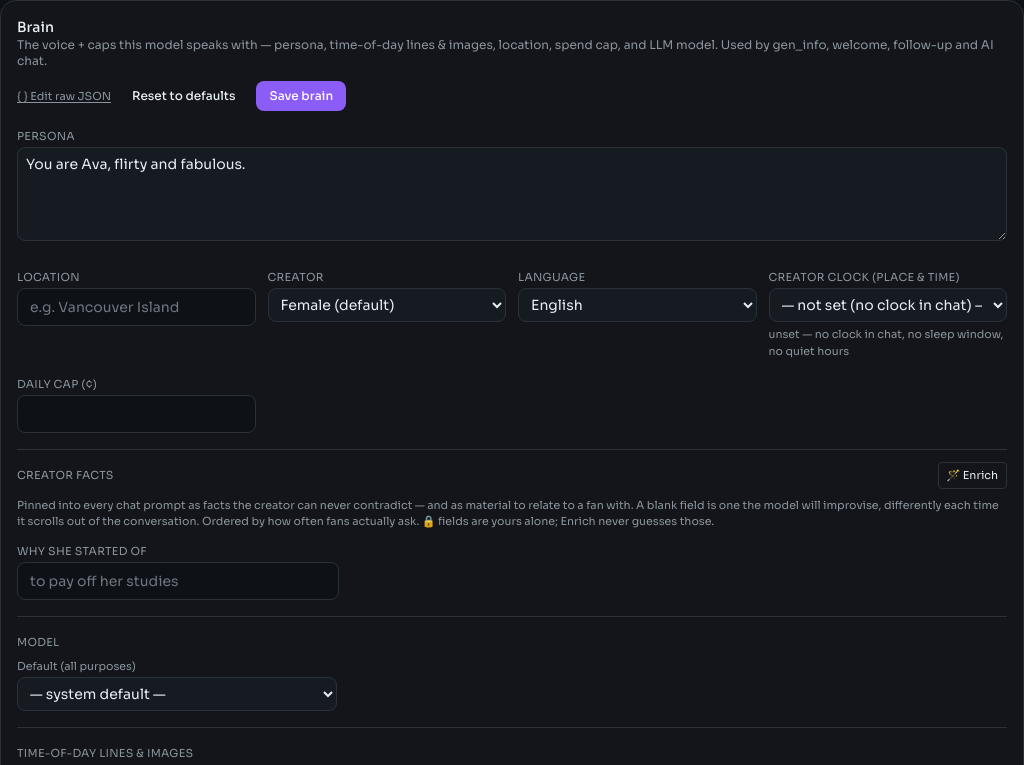
Test: the starter brain follows the SELECTED lane › Reset fills the SELECTED lane's brain, not the stored column's
Select "Male" in the dropdown titled "Whose voice this account writes in": coordinates (387, 305) [268, 288, 506, 322]
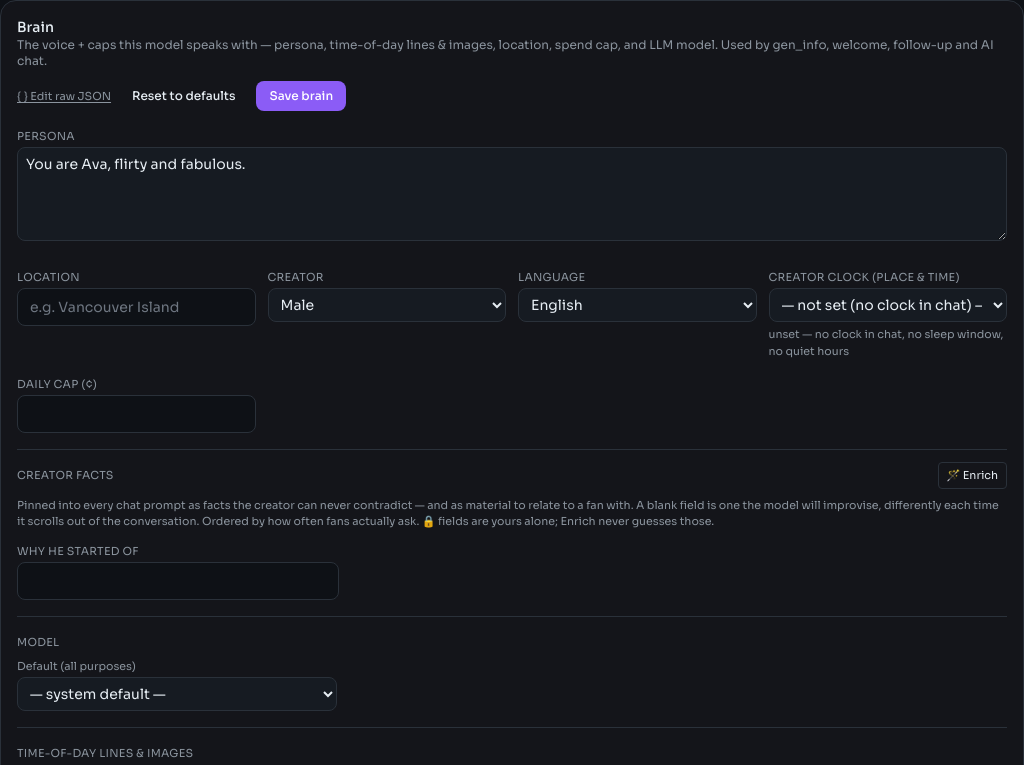
Click the button "Reset to defaults": coordinates (184, 96) [119, 81, 248, 111]
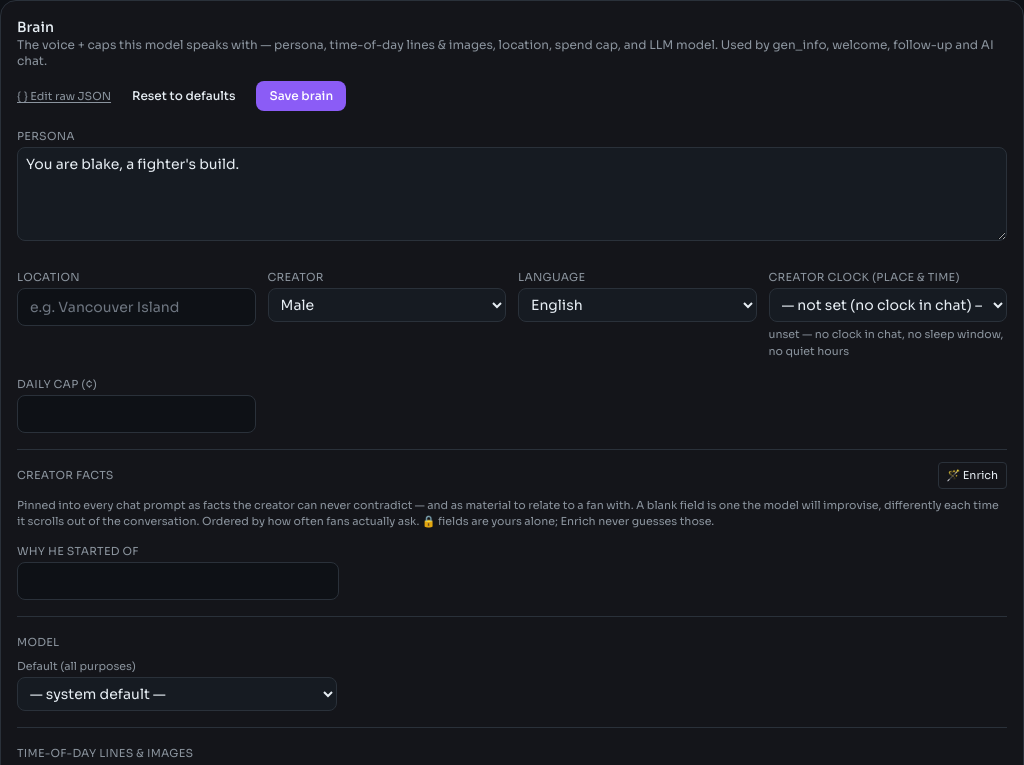
Expected: the field showing "You are Ava, flirty and fabulous." is not shown
Expected: the text box showing "You are blake, a fighter's build." is shown, [17, 147, 1007, 241]
